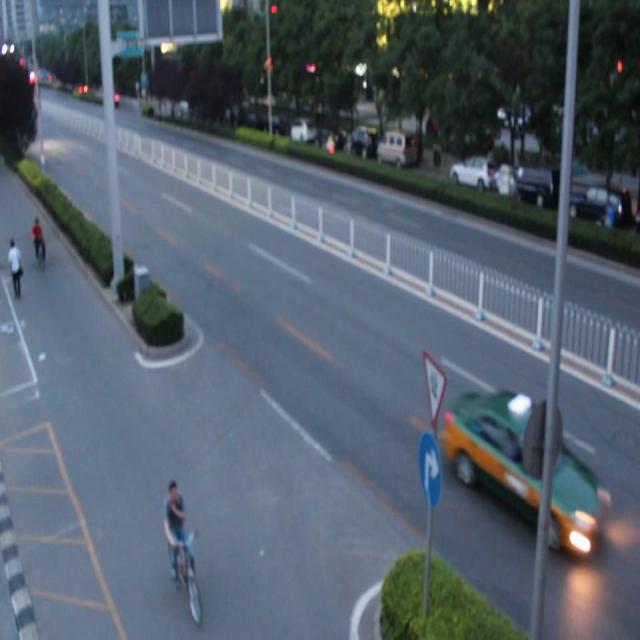car: (443, 384, 606, 555)
